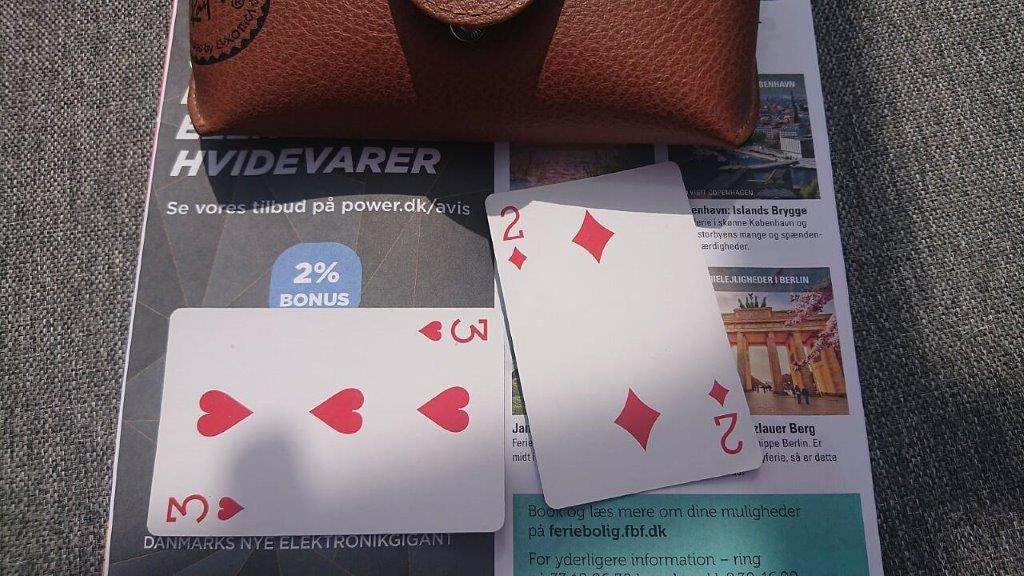2D: (494, 202, 531, 274)
